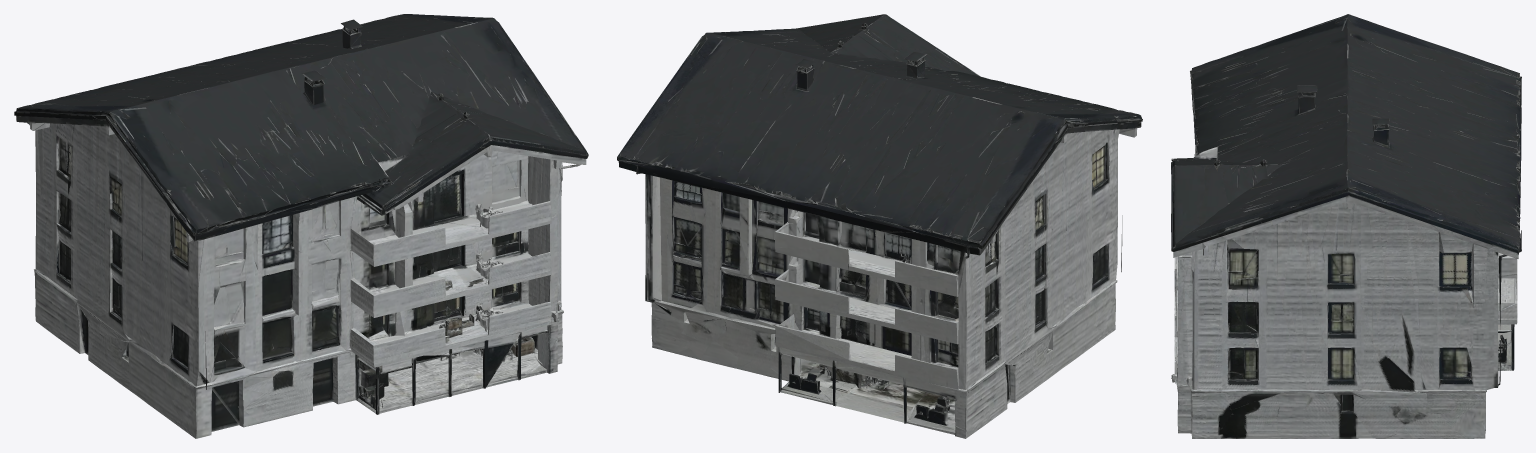
Rendered from hotel_modern.glb.
The picture shows the model from 3 angles, left to right: view 1: azimuth 30°, elevation 25°; view 2: azimuth 150°, elevation 25°; view 3: azimuth 270°, elevation 25°; orthographic projection. The views are drawn at different scales.
Size of the model in its own units: 1.9 by 1.36 by 1.59.
Materials: 1 (1 with a texture image).
